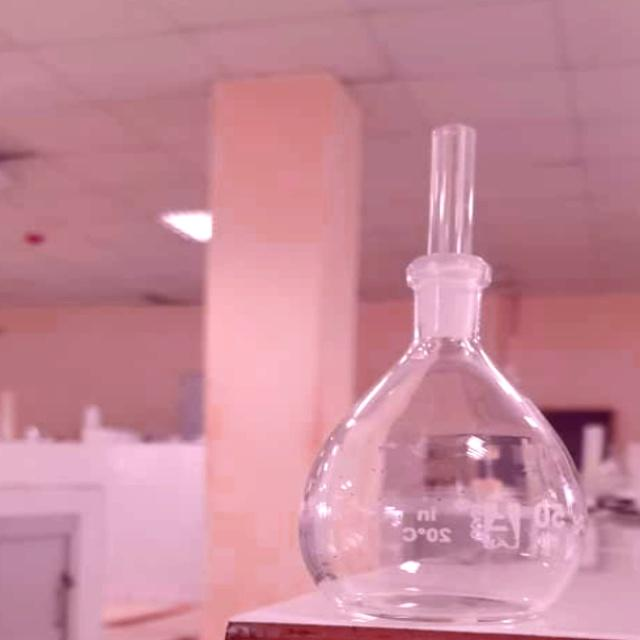Density Bottle for Liquids: (279, 106, 626, 636)
